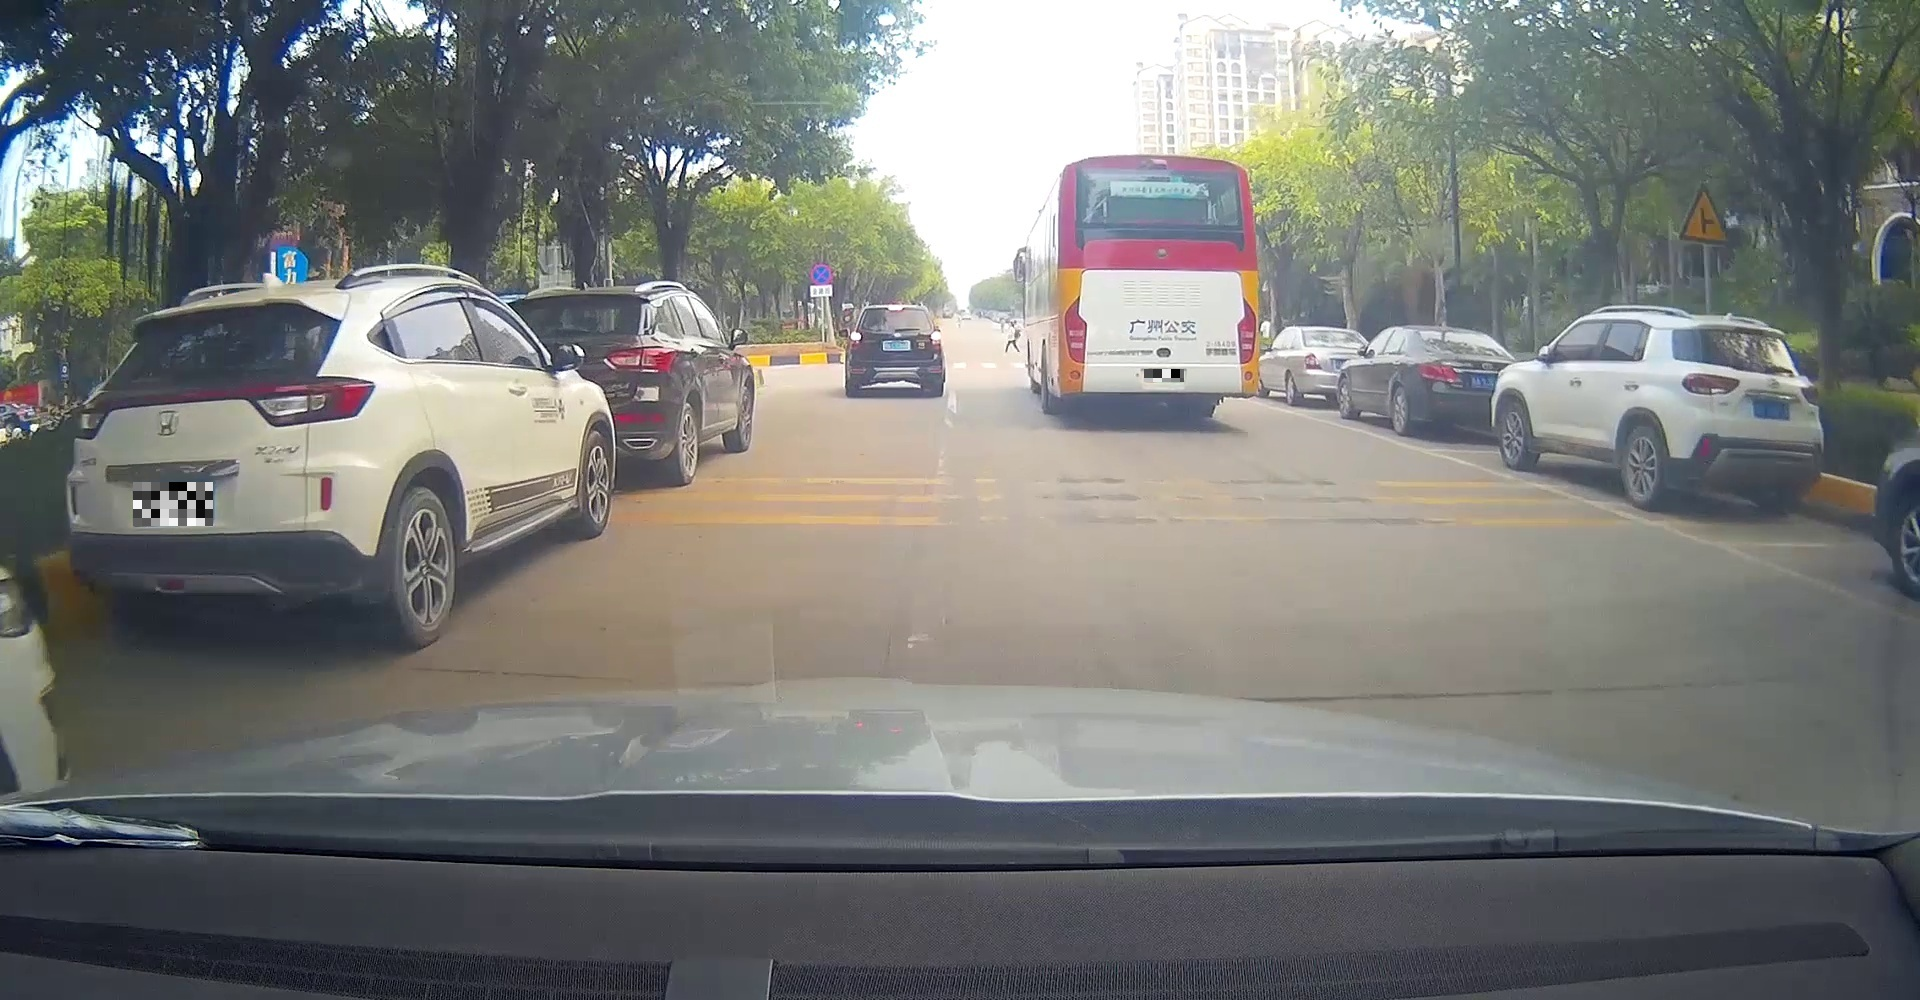L_light: (70, 392, 114, 442), (1064, 296, 1087, 364), (1683, 372, 1740, 395), (850, 331, 862, 350)
R_light: (246, 376, 376, 428), (1237, 297, 1256, 364), (1801, 386, 1820, 406), (930, 330, 942, 352)
T_light: (155, 306, 216, 325), (1735, 325, 1763, 335), (1145, 159, 1168, 170), (888, 305, 905, 311)
day-brake: (847, 305, 942, 397)
day-no: (69, 266, 387, 654), (1059, 155, 1258, 418), (1680, 311, 1823, 511)
plate_1: (133, 482, 213, 525)
plate_2: (1144, 369, 1183, 382)
